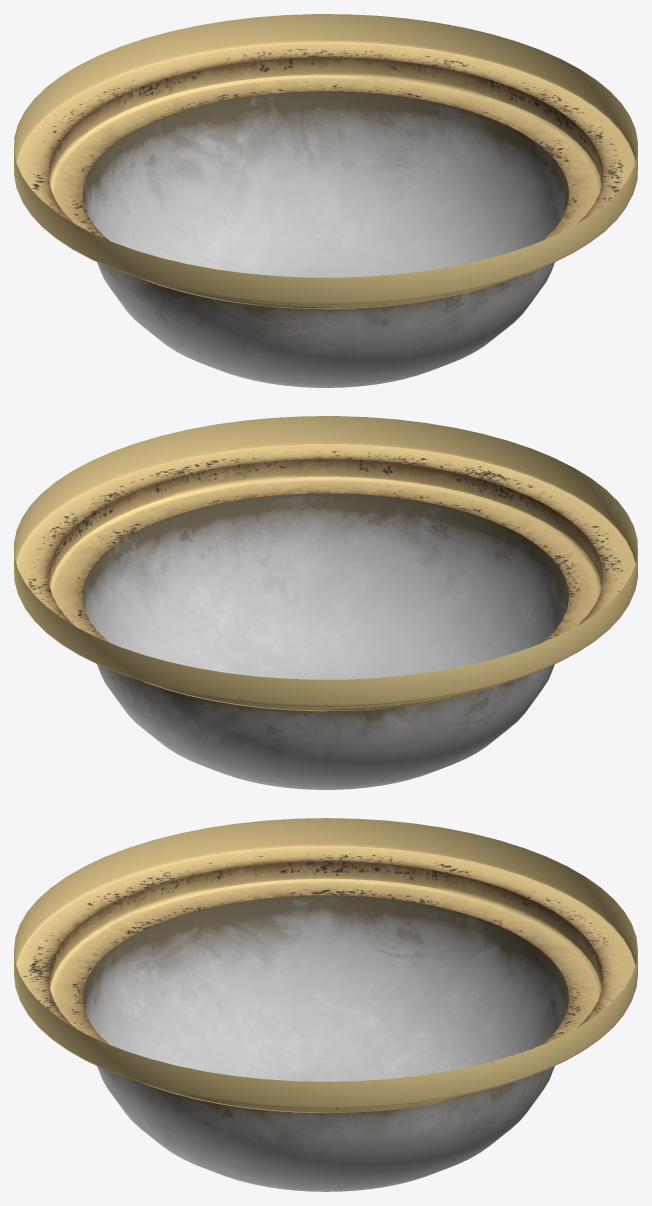
File: worn_ceiling_light.glb
3 renders of one model, top to bottom at view 1: azimuth 30°, elevation 25°; view 2: azimuth 150°, elevation 25°; view 3: azimuth 270°, elevation 25°, orthographic.
Parts seen in each view (by area): view 1: Cylinder; view 2: Cylinder; view 3: Cylinder.
Boxes of the visible parts, bbox=[...] form: Cylinder: bbox=[14, 14, 637, 387]; Cylinder: bbox=[14, 416, 637, 789]; Cylinder: bbox=[14, 818, 637, 1191].
Bounding box in the file's own units: 2 × 0.6703 × 2.
2 materials, 2 textured.
